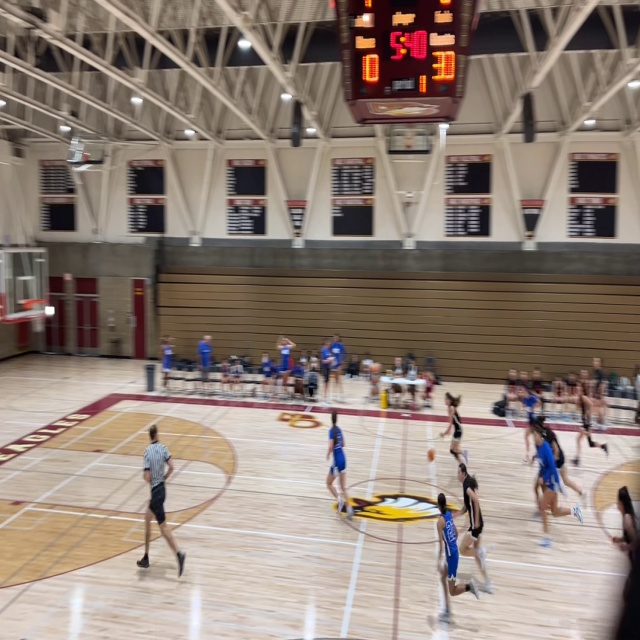Basketball: (427, 448, 435, 461)
